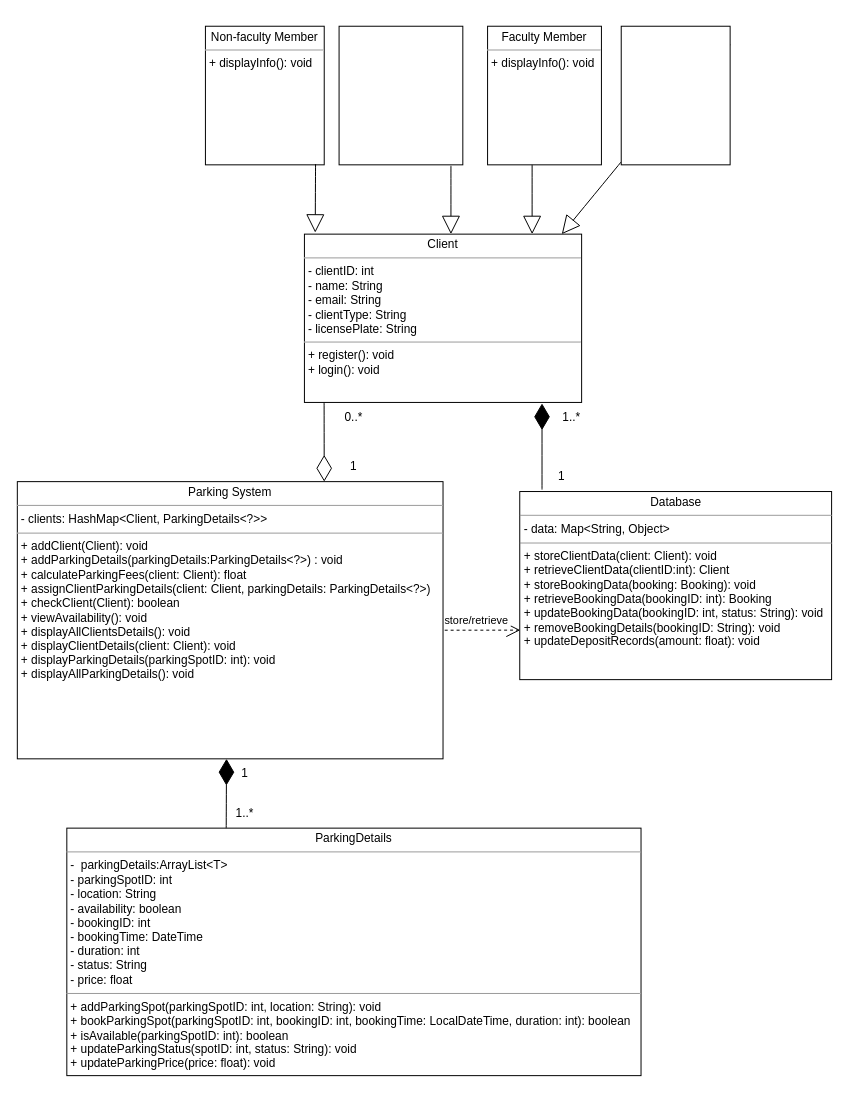
Some shapes in this 849 by 1093 pixel diagram are drawn without their labels. The shapes that lost their labels are listed below. From the top down, each one's centre as x and y in pixels, then its label:
At (x=400, y=95): "Visitor + displayInfo(): void".
At (x=675, y=95): "Student + displayInfo(): void".
